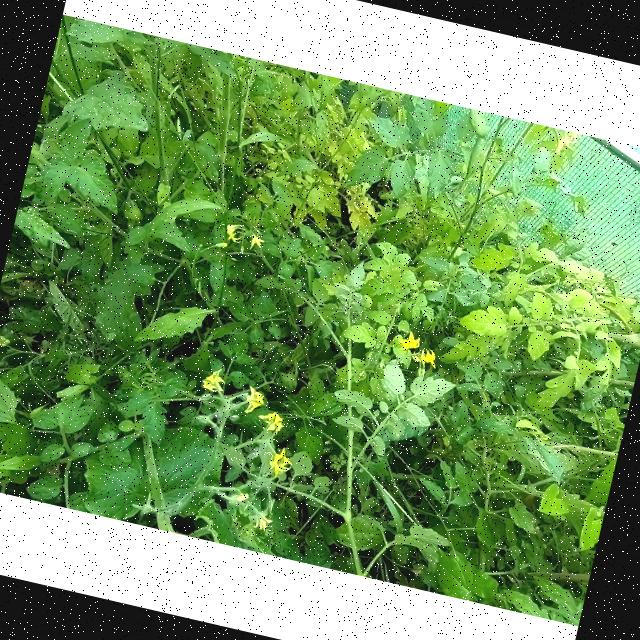Flowers: (264, 446, 296, 479), (238, 384, 268, 418), (254, 408, 287, 437), (198, 366, 228, 396), (552, 130, 582, 160), (395, 328, 422, 356), (410, 346, 440, 369), (250, 508, 276, 534), (223, 222, 247, 246), (248, 229, 270, 251), (229, 488, 249, 508), (0, 334, 12, 348)
